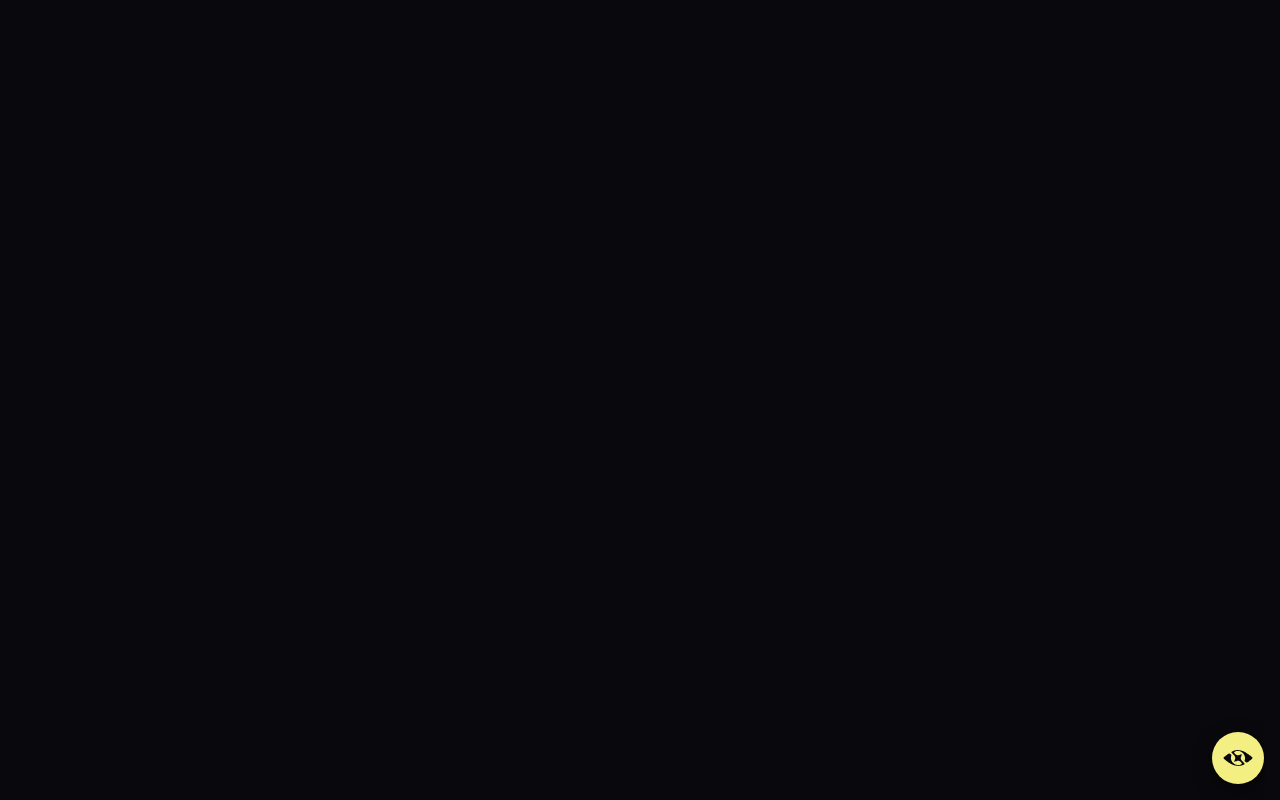
Test: StarChat › opens with a greeting and suggested questions
This screenshot has width=1280, height=800.
Click the button with class "star-chat__fab" at [1238, 758], box x1=1212 y1=732 x2=1264 y2=784
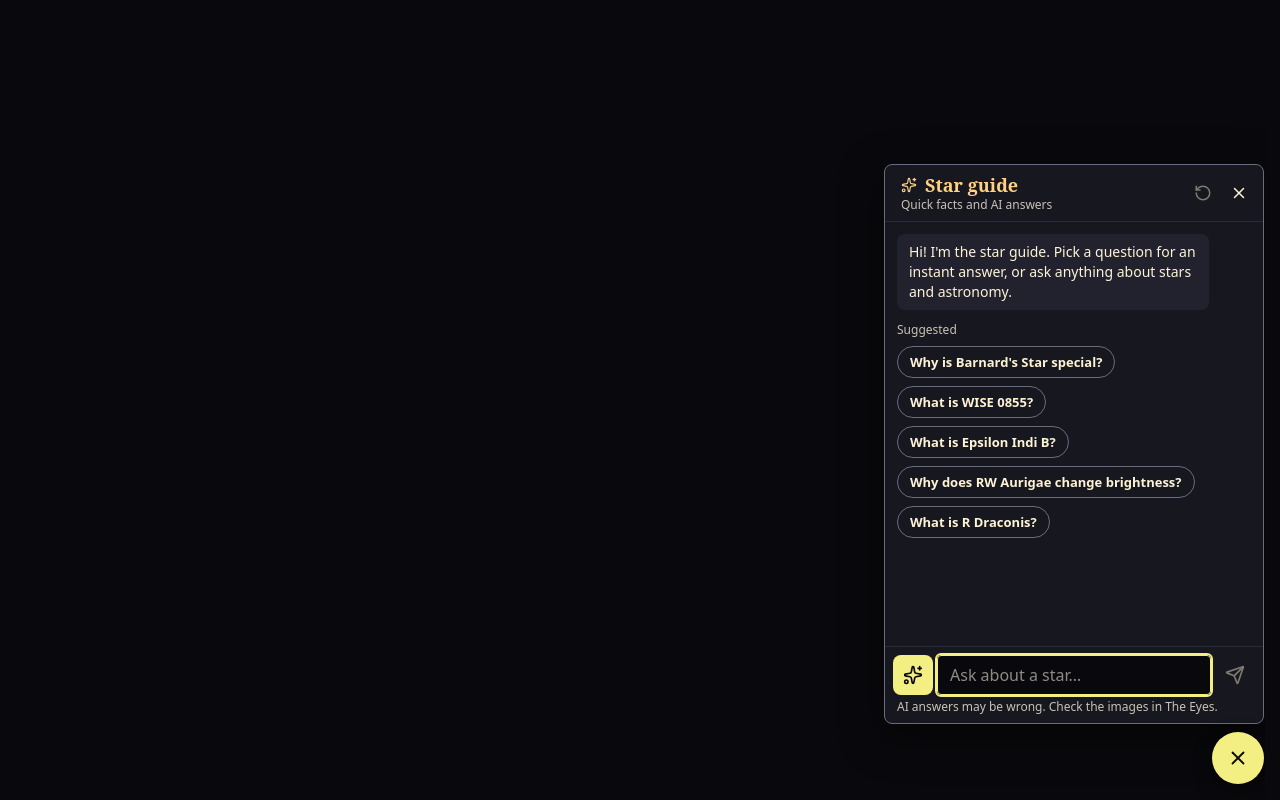
Result: the dialog is shown at x1=884 y1=164 x2=1264 y2=724
Result: the number of buttons with class "chip" is 5 at x1=897 y1=346 x2=1115 y2=378; x1=897 y1=386 x2=1046 y2=418; x1=897 y1=426 x2=1069 y2=458; x1=897 y1=466 x2=1194 y2=498; x1=897 y1=506 x2=1050 y2=538
Result: the element with class "star-chat__foot" shows "AI answers may be wrong" at x1=897 y1=698 x2=1218 y2=715
